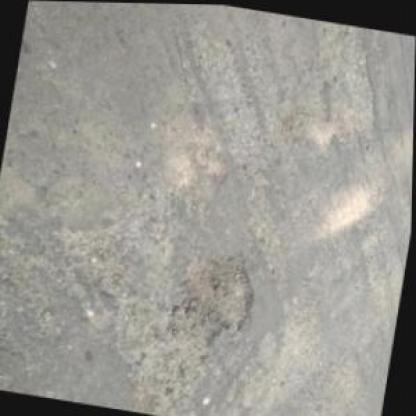pothole: (175, 244, 263, 348), (47, 216, 136, 300), (190, 144, 232, 183)
